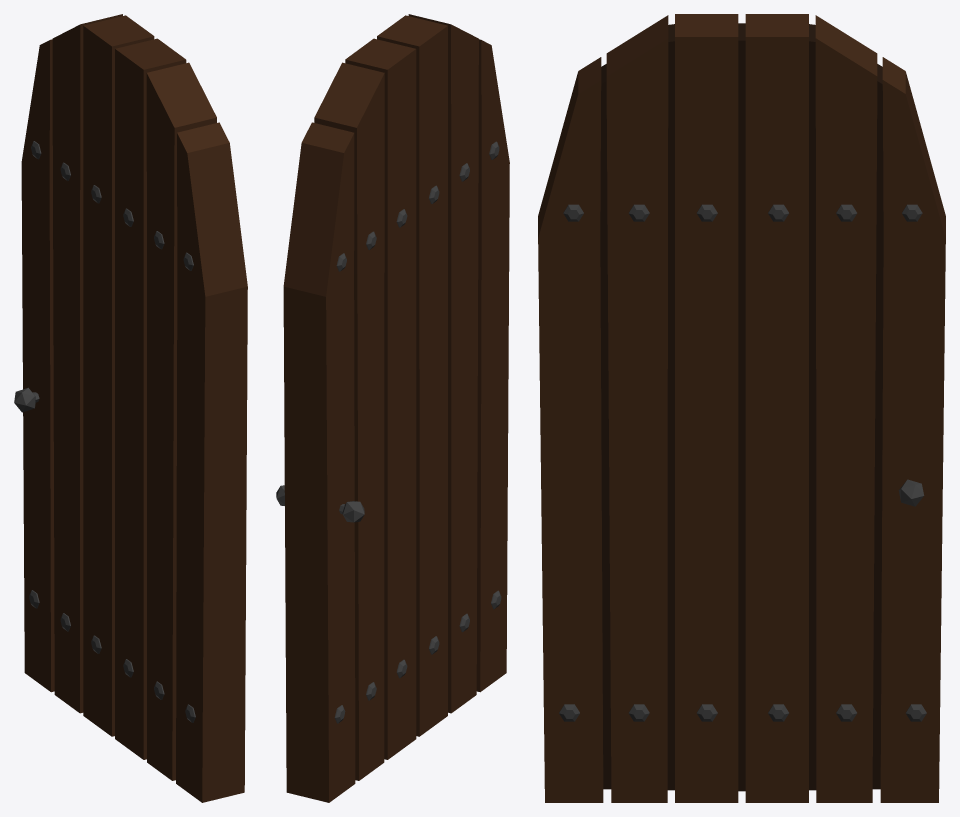
File: Door (1).fbx
The picture shows the model from 3 angles, left to right: view 1: azimuth 30°, elevation 25°; view 2: azimuth 150°, elevation 25°; view 3: azimuth 270°, elevation 25°; orthographic projection. The views are drawn at different scales.
Parts seen in each view (by area): view 1: Cube.020; view 2: Cube.020; view 3: Cube.020.
Part boxes in pixels (x1,y1,x2,y2): Cube.020: [14, 14, 247, 802]; Cube.020: [276, 14, 509, 802]; Cube.020: [538, 14, 945, 802].
Size of the model in its own units: 195 by 404 by 54.23.
